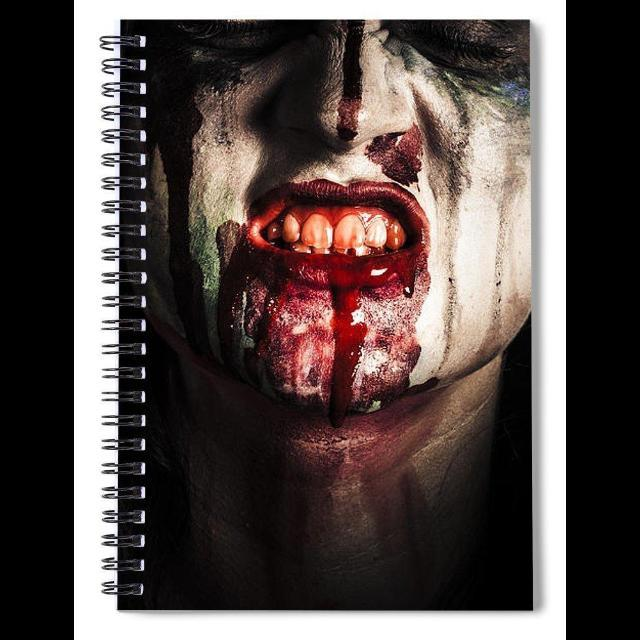blood: (217, 180, 430, 427), (366, 124, 423, 185), (337, 20, 364, 140)
